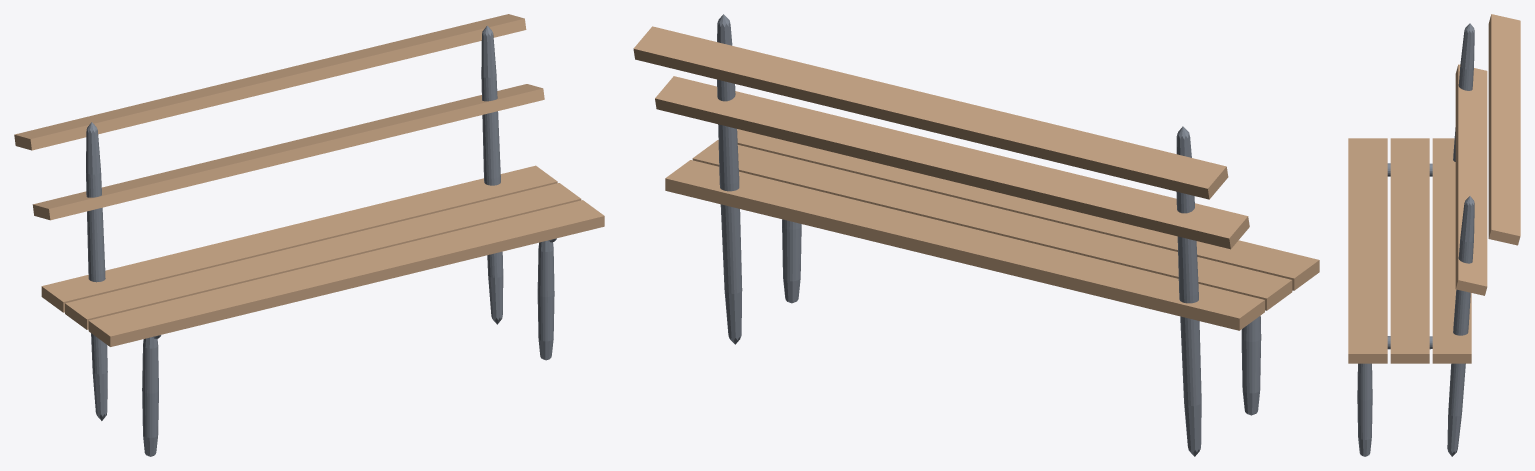
Rendered from banco.glb.
3 renders of one model, left to right at view 1: azimuth 30°, elevation 25°; view 2: azimuth 150°, elevation 25°; view 3: azimuth 270°, elevation 25°, orthographic. The views are drawn at different scales.
Visible parts, largest first — view 1: Prop_Banco; view 2: Prop_Banco; view 3: Prop_Banco.
Boxes of the visible parts, x1,y1,x2,y2 form: Prop_Banco: (14, 14, 604, 456); Prop_Banco: (633, 14, 1319, 456); Prop_Banco: (1348, 14, 1520, 456).
Size of the model in its own units: 1.7 by 0.96 by 0.5727.
